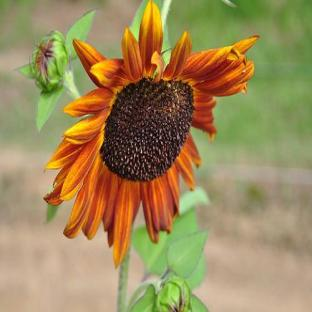sunflower: (44, 0, 258, 270)
